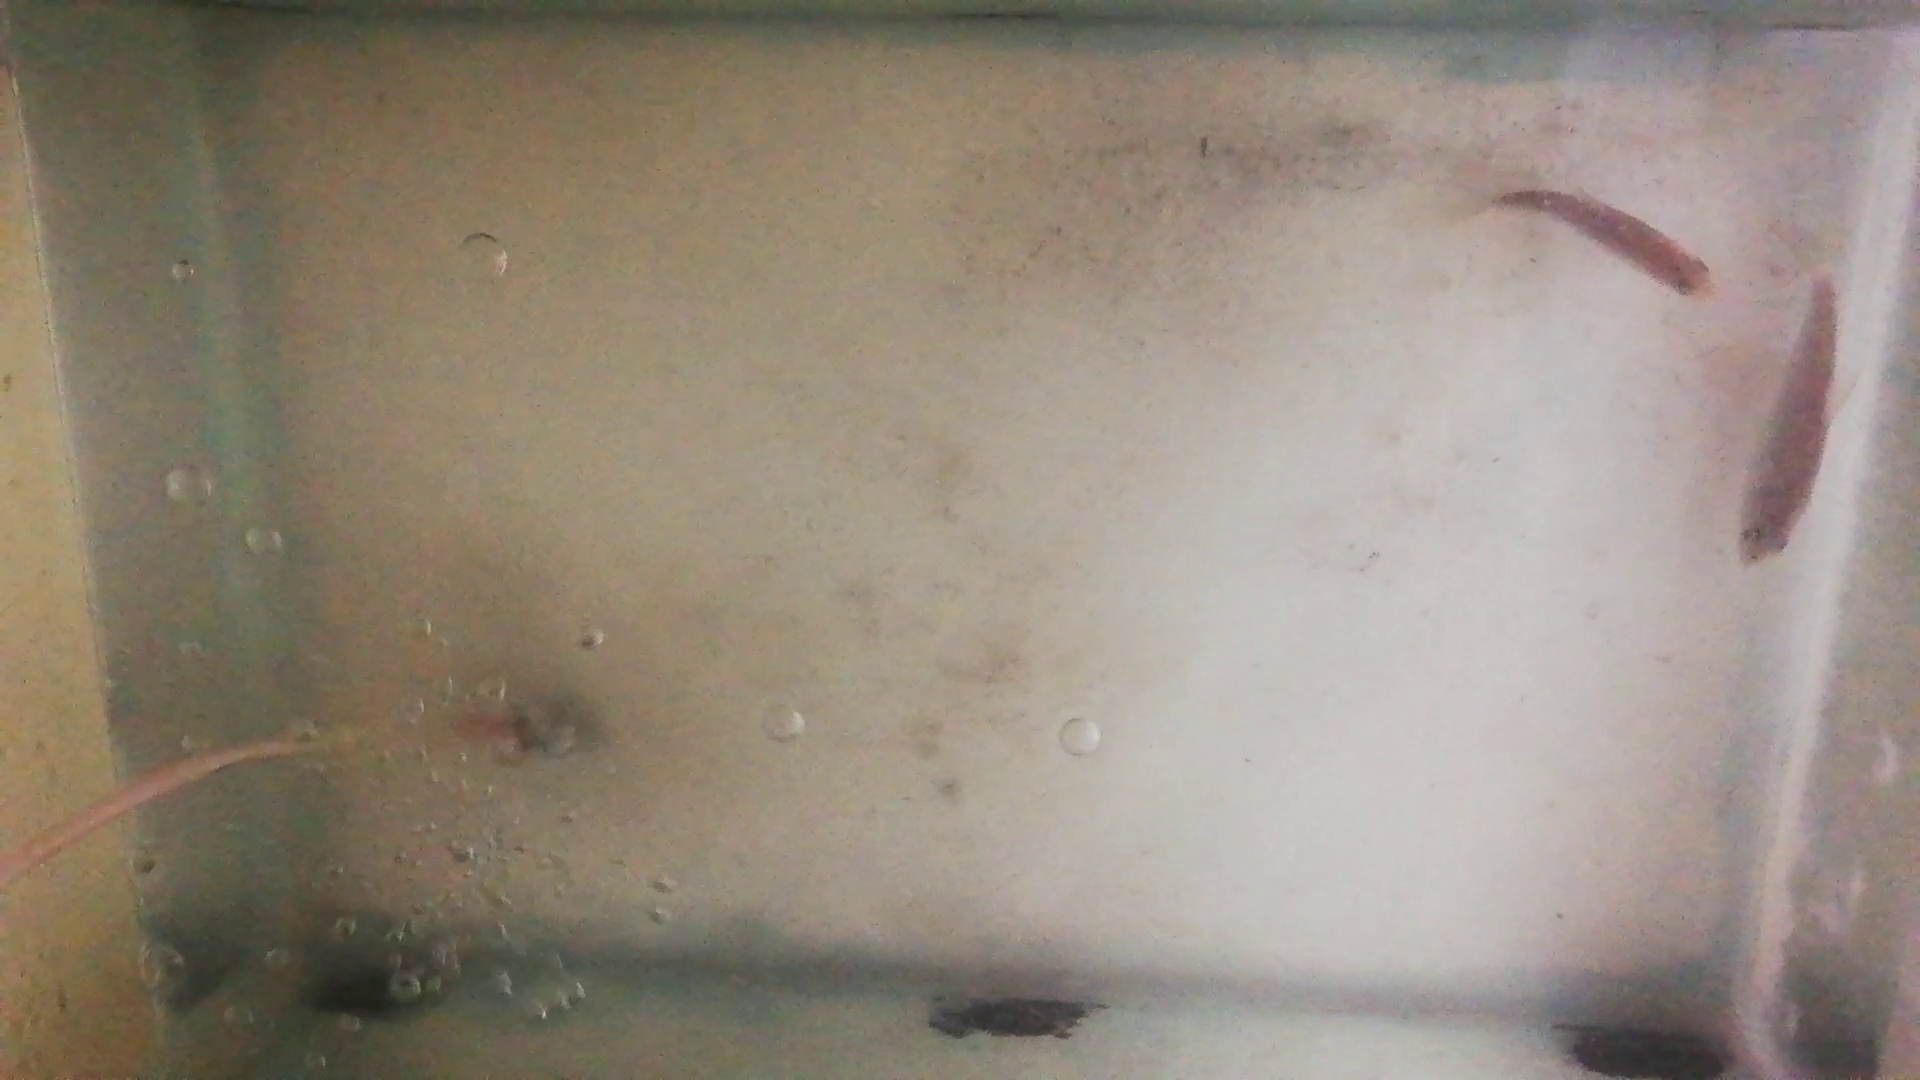fish: (1737, 276, 1838, 568), (1490, 187, 1713, 303)
